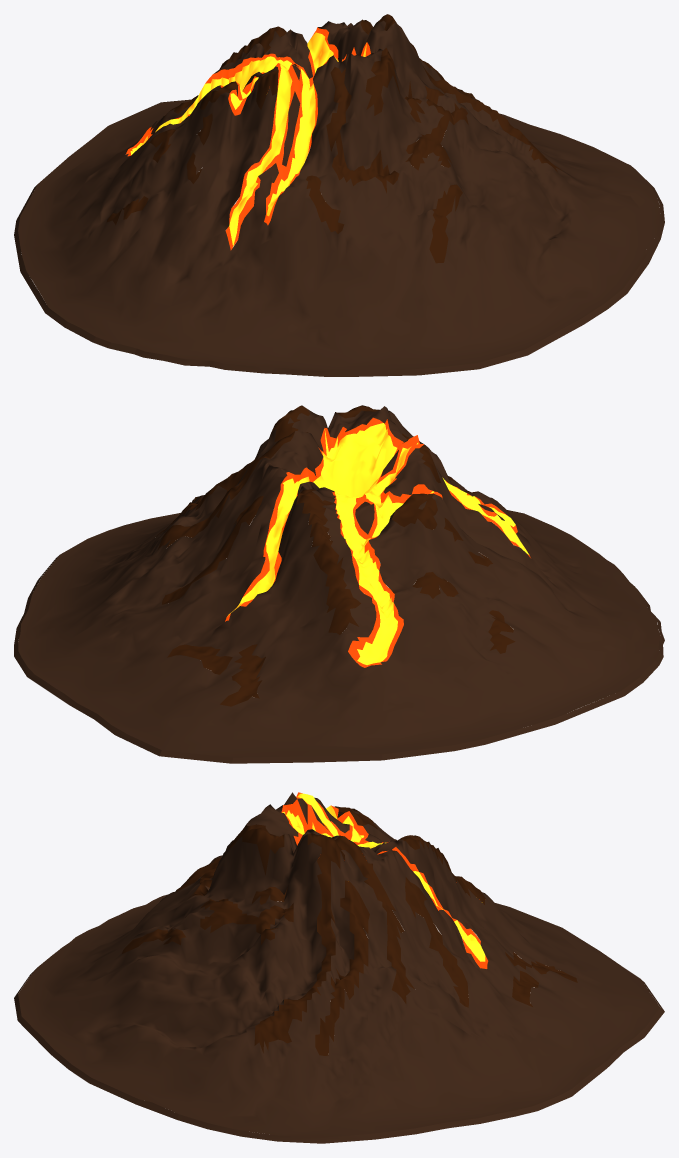
Rendered from Volcano.fbx.
3 renders of one model, top to bottom at view 1: azimuth 30°, elevation 25°; view 2: azimuth 150°, elevation 25°; view 3: azimuth 270°, elevation 25°, orthographic. The views are drawn at different scales.
Visible parts, largest first — view 1: Mount, ColdMagma, magma, base, OrangeMagma; view 2: Mount, ColdMagma, magma, base, OrangeMagma; view 3: Mount, ColdMagma, base, OrangeMagma, magma.
Boxes of the visible parts, bbox=[...] form: Mount: bbox=[18, 19, 660, 370]; ColdMagma: bbox=[106, 14, 561, 263]; magma: bbox=[130, 32, 366, 246]; base: bbox=[14, 99, 664, 376]; OrangeMagma: bbox=[126, 27, 370, 250]; Mount: bbox=[18, 406, 660, 757]; ColdMagma: bbox=[154, 405, 515, 706]; magma: bbox=[227, 423, 529, 665]; base: bbox=[14, 510, 664, 763]; OrangeMagma: bbox=[225, 417, 530, 667]; Mount: bbox=[18, 792, 660, 1137]; ColdMagma: bbox=[122, 807, 577, 1055]; base: bbox=[14, 967, 664, 1143]; OrangeMagma: bbox=[281, 792, 488, 968]; magma: bbox=[282, 793, 485, 961].
Size of the model in its own units: 213 by 73.84 by 220.
